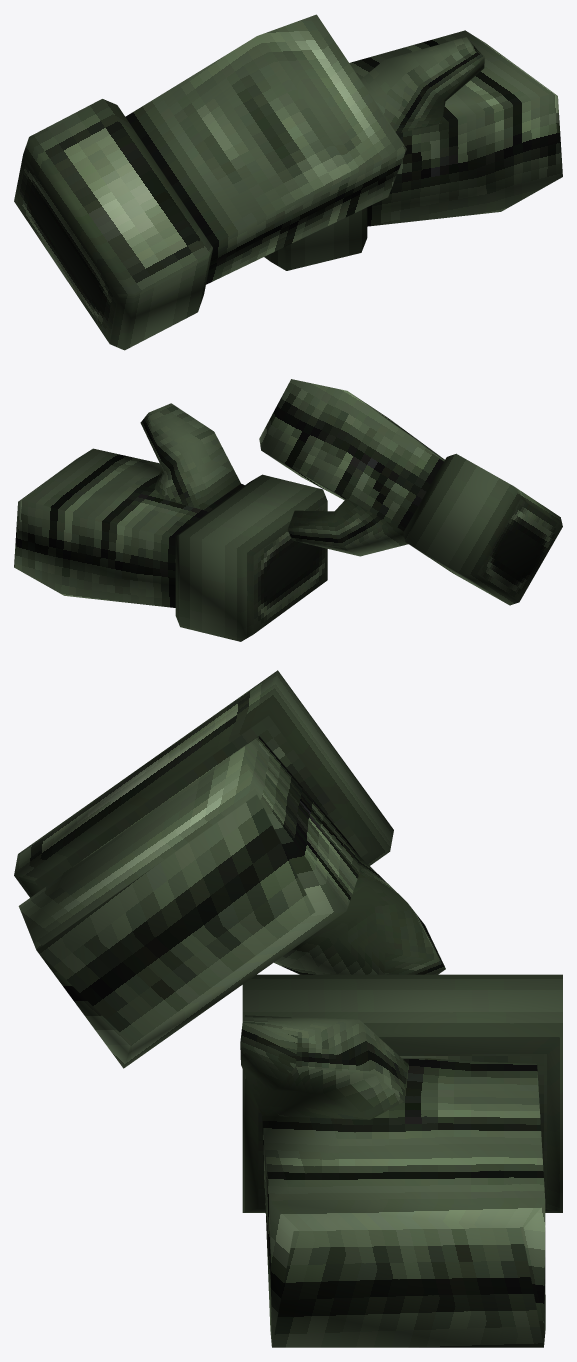
File: a_SCglove02.glb
3 views of the same model, one above another, from view 1: azimuth 30°, elevation 25°; view 2: azimuth 150°, elevation 25°; view 3: azimuth 270°, elevation 25° (orthographic). The views are drawn at different scales.
Parts seen in each view (by area): view 1: a_SCglove02; view 2: a_SCglove02; view 3: a_SCglove02.
Boxes of the visible parts, bbox=[...] form: a_SCglove02: bbox=[14, 14, 562, 350]; a_SCglove02: bbox=[14, 379, 562, 641]; a_SCglove02: bbox=[14, 670, 562, 1347].
Size of the model in its own units: 0.5078 by 0.2254 by 0.2819.
1 material, 1 textured.
